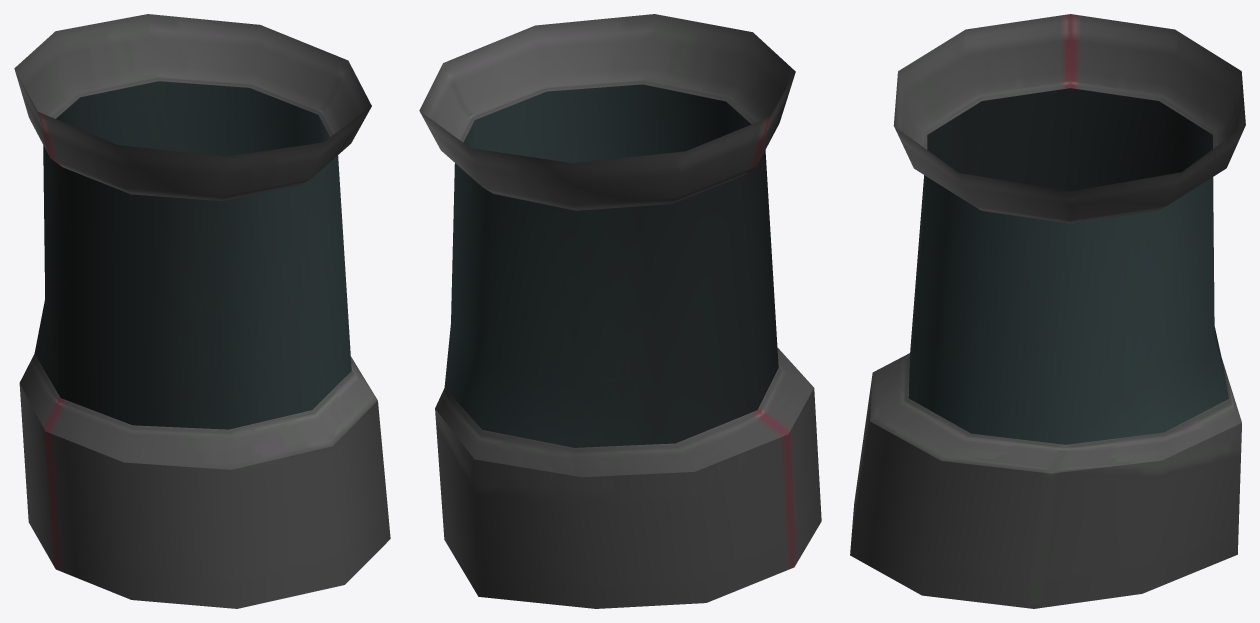
The model's file is zero_brazoIzq.obj.
The picture shows the model from 3 angles, left to right: view 1: azimuth 30°, elevation 25°; view 2: azimuth 150°, elevation 25°; view 3: azimuth 270°, elevation 25°; orthographic projection. The views are drawn at different scales.
Parts seen in each view (by area): view 1: Brazo_izq_disparo.001; view 2: Brazo_izq_disparo.001; view 3: Brazo_izq_disparo.001.
Part boxes in pixels (x1,y1,x2,y2): Brazo_izq_disparo.001: [14, 14, 390, 608]; Brazo_izq_disparo.001: [419, 14, 821, 608]; Brazo_izq_disparo.001: [850, 14, 1245, 608].
Bounding box in the file's own units: 0.2698 × 0.3614 × 0.2911.
